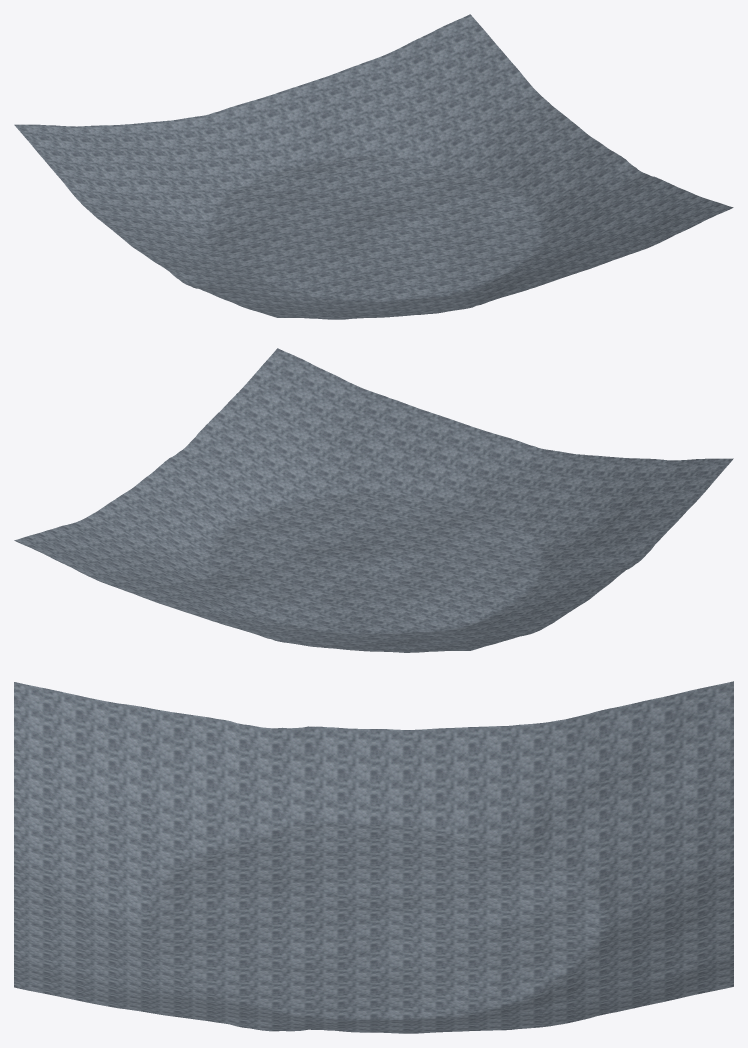
The model's file is terreno_aguas_frias.fbx.
3 views of the same model, one above another, from view 1: azimuth 30°, elevation 25°; view 2: azimuth 150°, elevation 25°; view 3: azimuth 270°, elevation 25° (orthographic). The views are drawn at different scales.
Visible parts, largest first — view 1: terreno_aguas_frias; view 2: terreno_aguas_frias; view 3: terreno_aguas_frias.
Part boxes in pixels (x1=…): terreno_aguas_frias: x1=14, y1=14, x2=733, y2=319; terreno_aguas_frias: x1=14, y1=348, x2=733, y2=652; terreno_aguas_frias: x1=14, y1=681, x2=733, y2=1033.
Bounding box in the file's own units: 110 × 15.63 × 110.
Materials: 1 (1 with a texture image).
